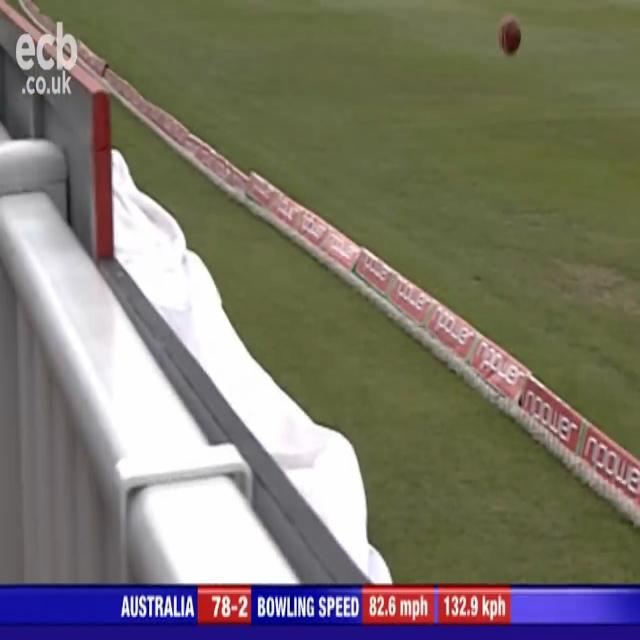ball: (494, 8, 525, 61)
